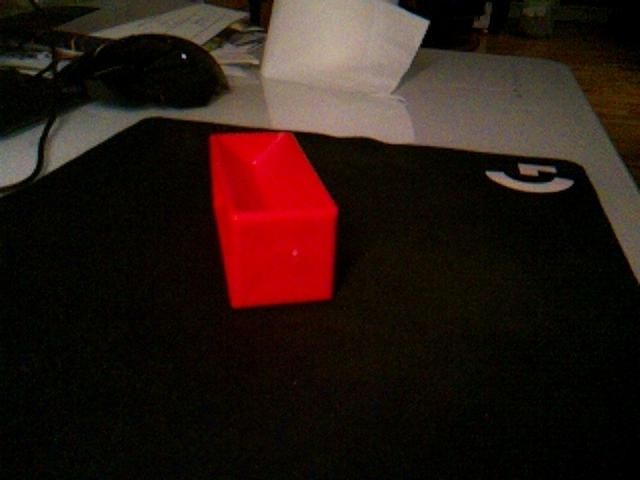red: (207, 130, 340, 310)
